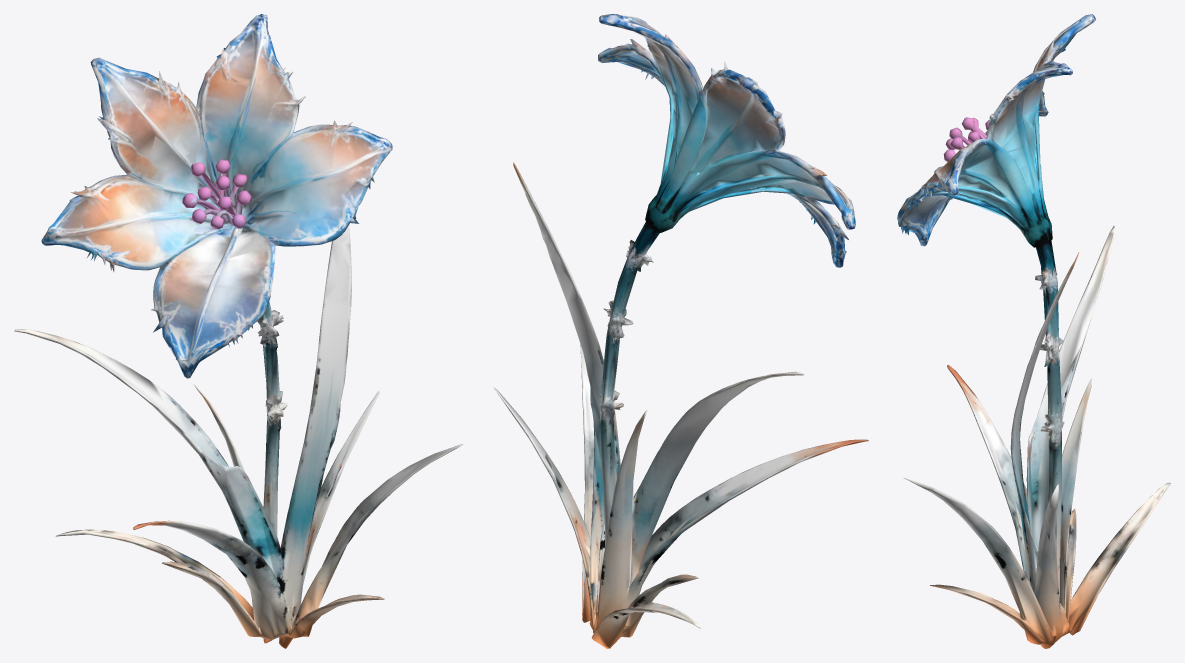
File: 玄冰兰.glb
3 views of the same model, side by side, from view 1: azimuth 30°, elevation 25°; view 2: azimuth 150°, elevation 25°; view 3: azimuth 270°, elevation 25° (orthographic). The views are drawn at different scales.
Parts seen in each view (by area): view 1: node_0; view 2: node_0; view 3: node_0.
Part boxes in pixels (box(x1,y1,x2,y2)): node_0: box(14, 14, 463, 648); node_0: box(493, 14, 868, 648); node_0: box(897, 14, 1170, 648).
Bounding box in the file's own units: 0.6745 × 1.16 × 0.5017.
Materials: 1 (1 with a texture image).
